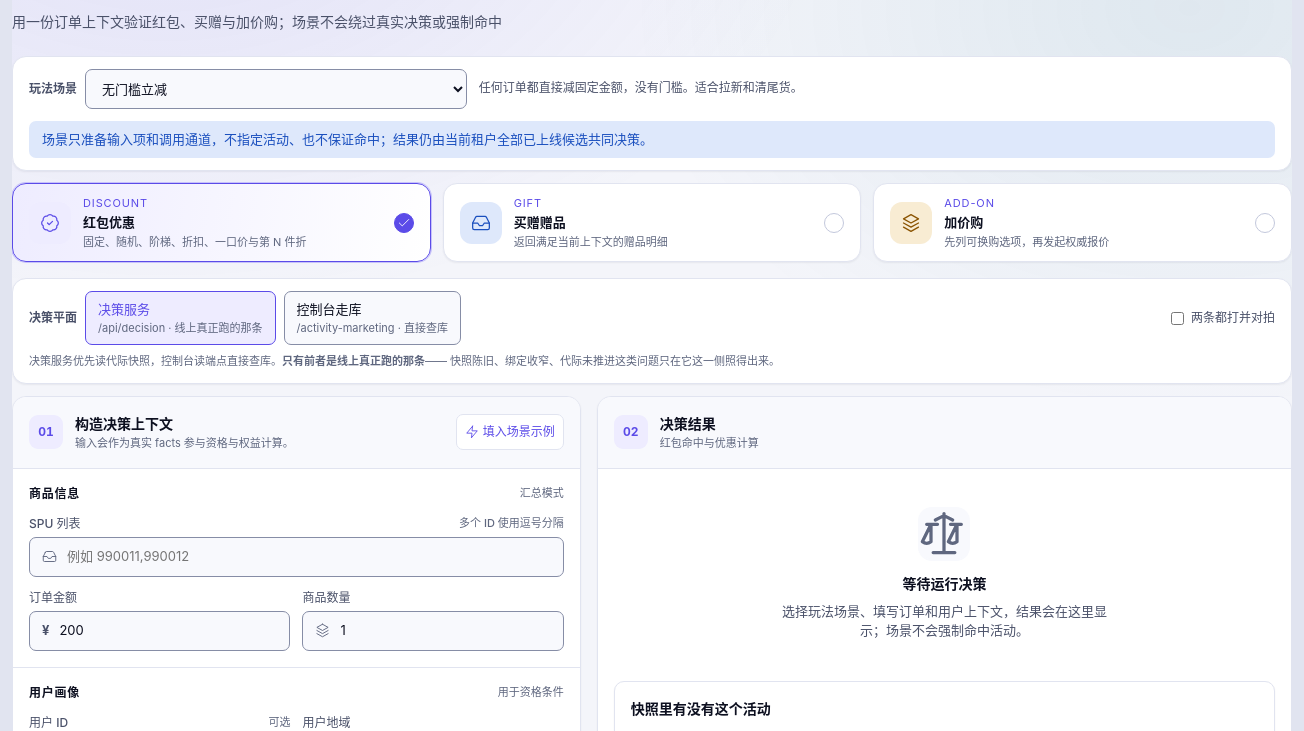
it: ValidateView › 网络异常进入 error 状态，AbortError 不显示为失败
In the field with test id "v-spu": (308, 557) 65,546 -> 551,567, type "990011"
(page scrolled)
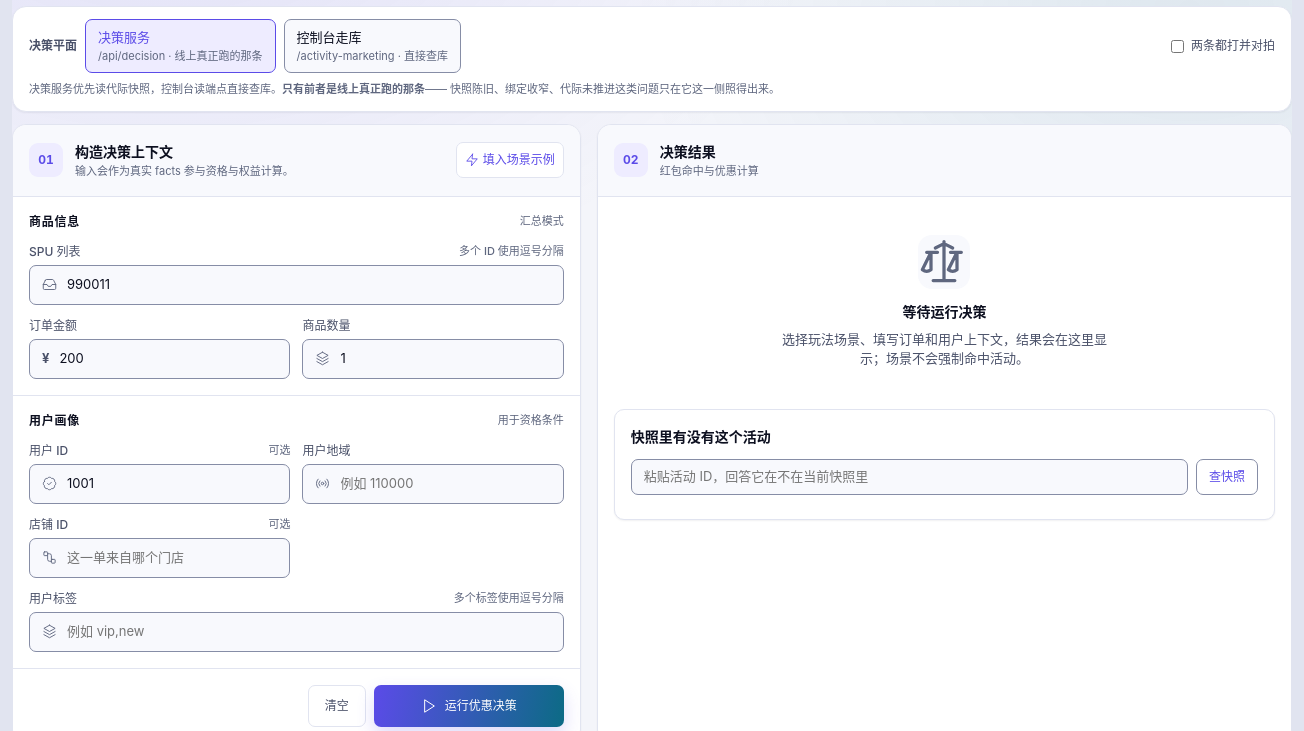
Click the button with test id "v-discount": (469, 706) 374,685 -> 564,727
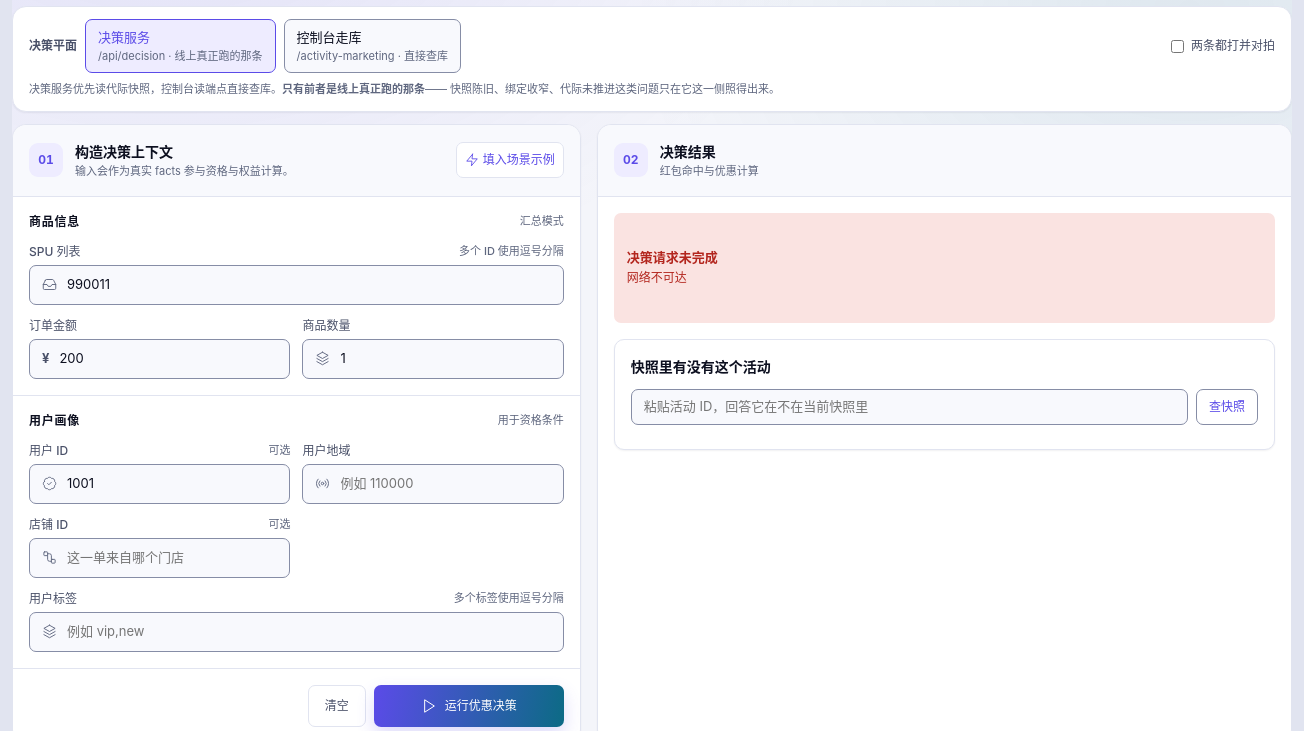
Now the message with test id "v-error" shows "网络不可达", box 627,270 -> 687,285
